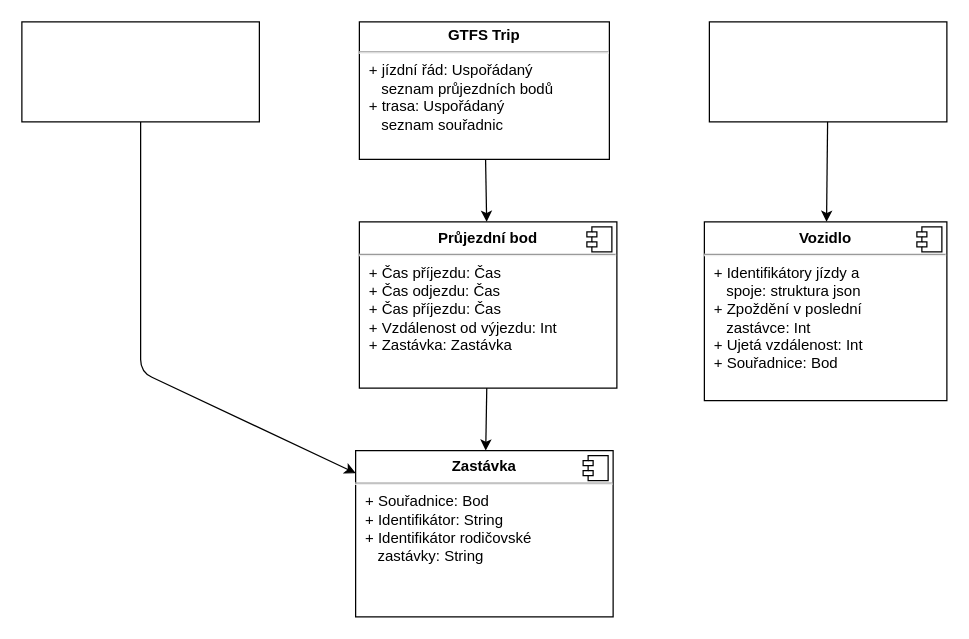
Some shapes in this 969 by 639 pixel diagram are drawn without their labels. The shapes that lost their labels are listed below. From the top down, each one's box as (x1, y1, x2, y2) in pixels, then its label:
(21, 21, 259, 122): GTFS Stops + zastávky: seznam všech zastávek
(708, 21, 947, 122): All Vehicle Positions + vozidla: seznam jedoucích vozidel
